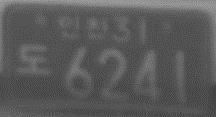1: (167, 50, 196, 101), (134, 17, 153, 44)
2: (98, 47, 130, 99)
3: (112, 15, 132, 43)
4: (133, 49, 162, 102)
6: (64, 47, 94, 99)
도: (16, 43, 51, 76)
인천_O: (58, 14, 109, 42)
